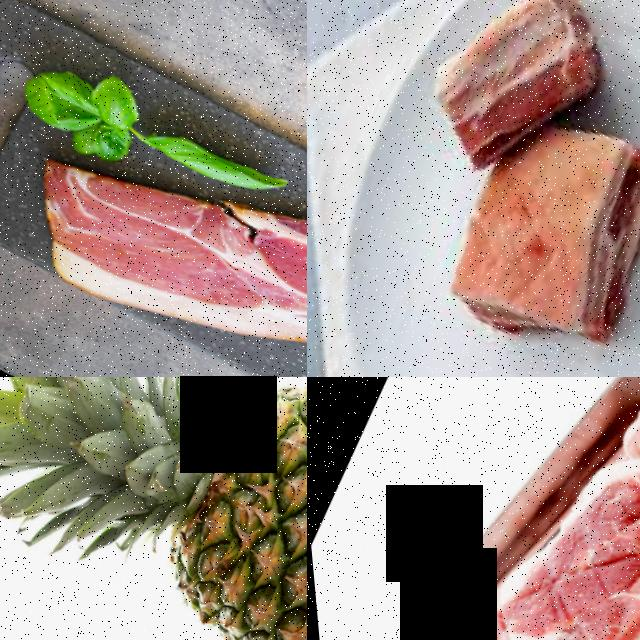pineapple: (34, 377, 307, 640)
pork belly: (381, 377, 640, 640), (0, 132, 268, 365), (413, 133, 640, 377), (386, 0, 631, 202), (204, 178, 307, 377)
